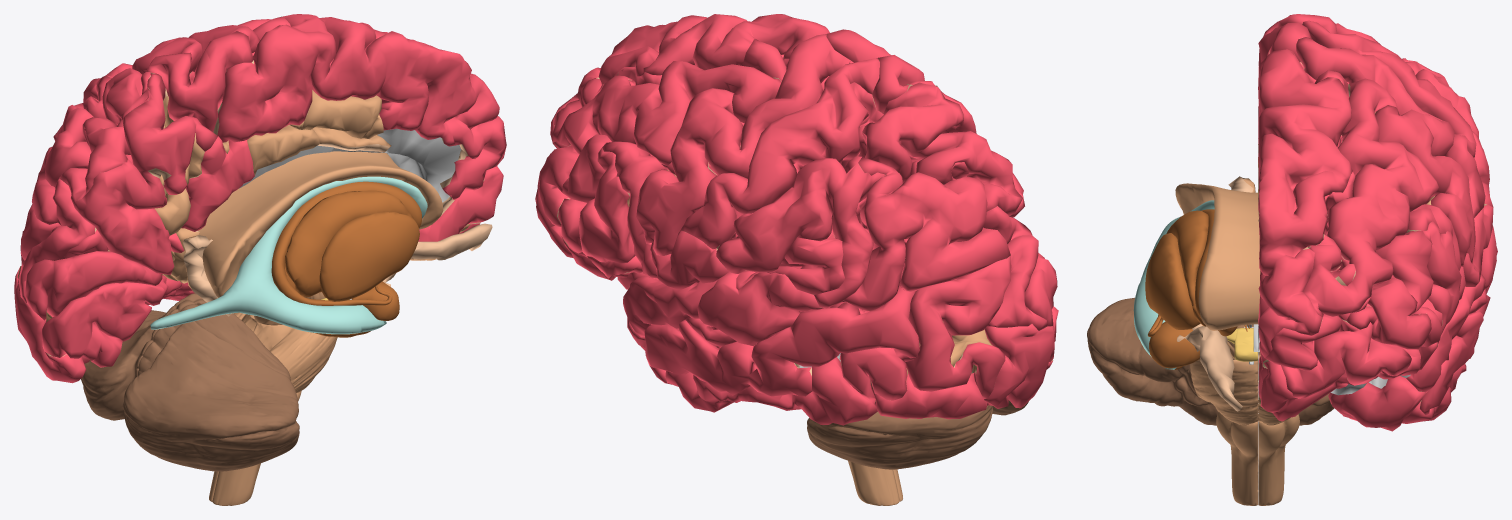
The model's file is brain.glb.
3 renders of one model, left to right at view 1: azimuth 30°, elevation 25°; view 2: azimuth 150°, elevation 25°; view 3: azimuth 270°, elevation 25°, orthographic. The views are drawn at different scales.
Visible parts, largest first — view 1: gyrus, Cerebellum.r.002, sulcus, Medial geniculate body, Corpus callosum, Putamen.r.001, White matter of telencephalon.r.002, Pons.r.002, Caudate nucleus.r.001, Medulla oblongata.r.001, Amygdaloid body.r.001; view 2: gyrus, Cerebellum.r.002, sulcus, Medulla oblongata.r.001; view 3: gyrus, Corpus callosum, Cerebellum.r.002, Medulla oblongata.r.001, sulcus, Medial geniculate body, Putamen.r.001, Pons.r.002, Amygdaloid body.r.001, Caudate nucleus.r.001, Optic tract.l.002.
Boxes of the visible parts, x1,y1,x2,y2 form: gyrus: (14, 14, 506, 383); Cerebellum.r.002: (81, 293, 299, 471); sulcus: (17, 17, 492, 321); Medial geniculate body: (150, 176, 427, 334); Corpus callosum: (197, 151, 443, 297); Putamen.r.001: (319, 211, 419, 301); White matter of telencephalon.r.002: (239, 128, 461, 202); Pons.r.002: (234, 312, 337, 393); Caudate nucleus.r.001: (271, 181, 421, 305); Medulla oblongata.r.001: (209, 391, 301, 505); Amygdaloid body.r.001: (351, 281, 399, 320); gyrus: (535, 14, 1058, 425); Cerebellum.r.002: (807, 400, 1028, 469); sulcus: (553, 39, 992, 380); Medulla oblongata.r.001: (848, 461, 902, 505); gyrus: (1258, 14, 1497, 431); Corpus callosum: (1175, 183, 1260, 330); Cerebellum.r.002: (1087, 297, 1334, 425); Medulla oblongata.r.001: (1215, 407, 1299, 505); sulcus: (1177, 68, 1487, 411); Medial geniculate body: (1133, 200, 1214, 369); Putamen.r.001: (1145, 233, 1200, 329); Pons.r.002: (1190, 352, 1290, 425); Amygdaloid body.r.001: (1149, 321, 1199, 368); Caudate nucleus.r.001: (1148, 209, 1237, 336); Optic tract.l.002: (1226, 328, 1257, 361).
Bounding box in the file's own units: 1.33 × 1.21 × 0.937.
